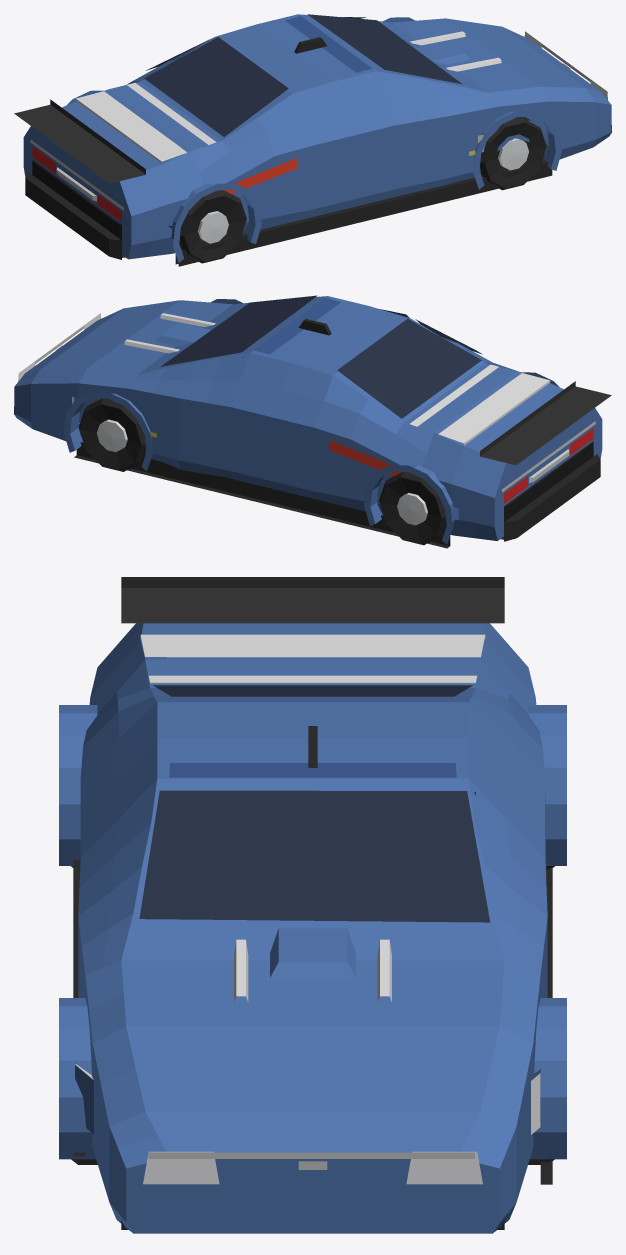
Rendered from car.glb.
3 renders of one model, top to bottom at view 1: azimuth 30°, elevation 25°; view 2: azimuth 150°, elevation 25°; view 3: azimuth 270°, elevation 25°, orthographic. The views are drawn at different scales.
Parts seen in each view (by area): view 1: RacingCar_NASCAR88, Tire_RL, Tire_FL, RearGarnish, Wheel_RL, Wheel_FL; view 2: RacingCar_NASCAR88, Tire_FR, Tire_RR, RearGarnish, Wheel_RR, Wheel_FR; view 3: RacingCar_NASCAR88, FrontGarnish.
Part boxes in pixels (x1,y1,x2,y2): RacingCar_NASCAR88: (14,14,611,266); Tire_RL: (179,190,246,263); Tire_FL: (480,117,546,190); RearGarnish: (30,139,123,240); Wheel_RL: (198,211,228,243); Wheel_FL: (498,138,528,170); RacingCar_NASCAR88: (14,295,611,548); Tire_FR: (79,398,145,471); Tire_RR: (379,472,446,545); RearGarnish: (502,421,595,521); Wheel_RR: (397,492,427,525); Wheel_FR: (97,419,127,452); RacingCar_NASCAR88: (59,577,566,1233); FrontGarnish: (148,1152,474,1169).
Bounding box in the file's own units: 4.9 × 1.28 × 2.12.
